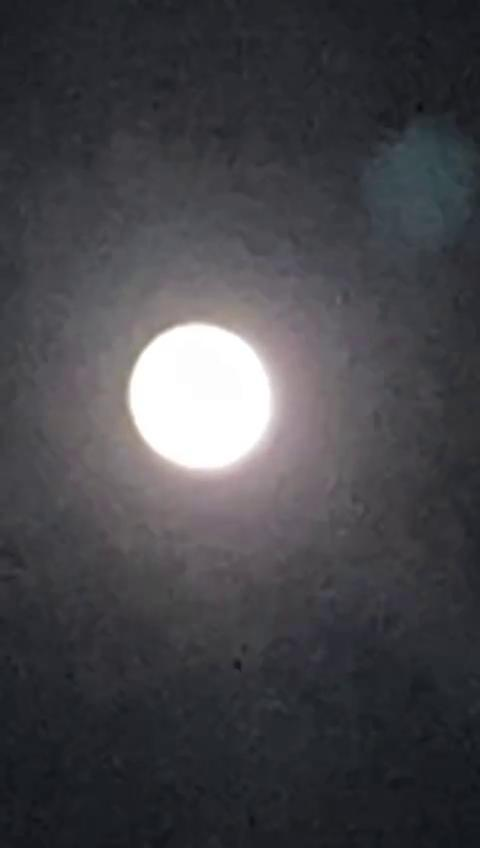moon: (114, 318, 292, 509)
